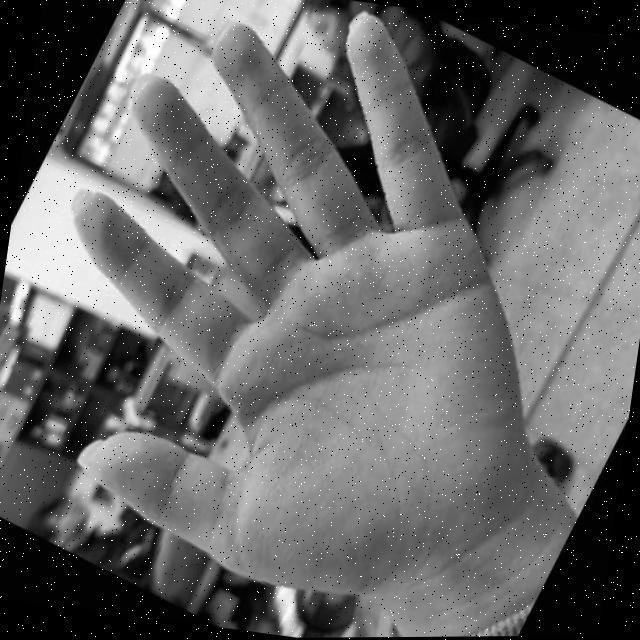no-gloves: (20, 0, 616, 632)
